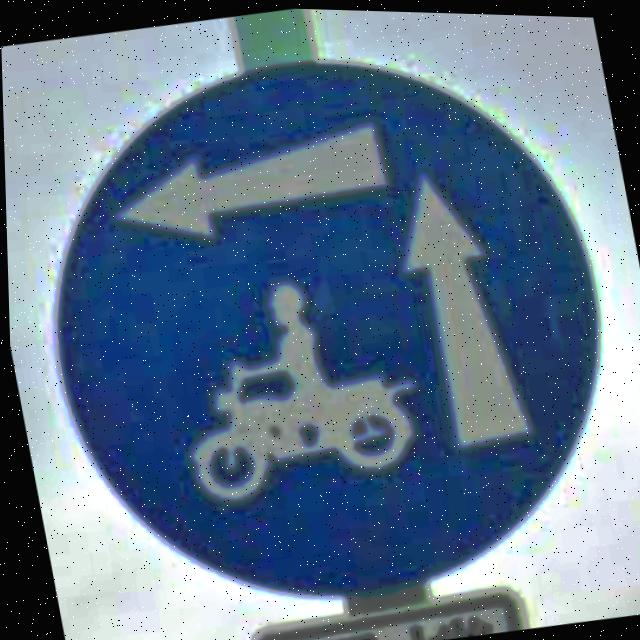twostageturn: (53, 64, 598, 596)
